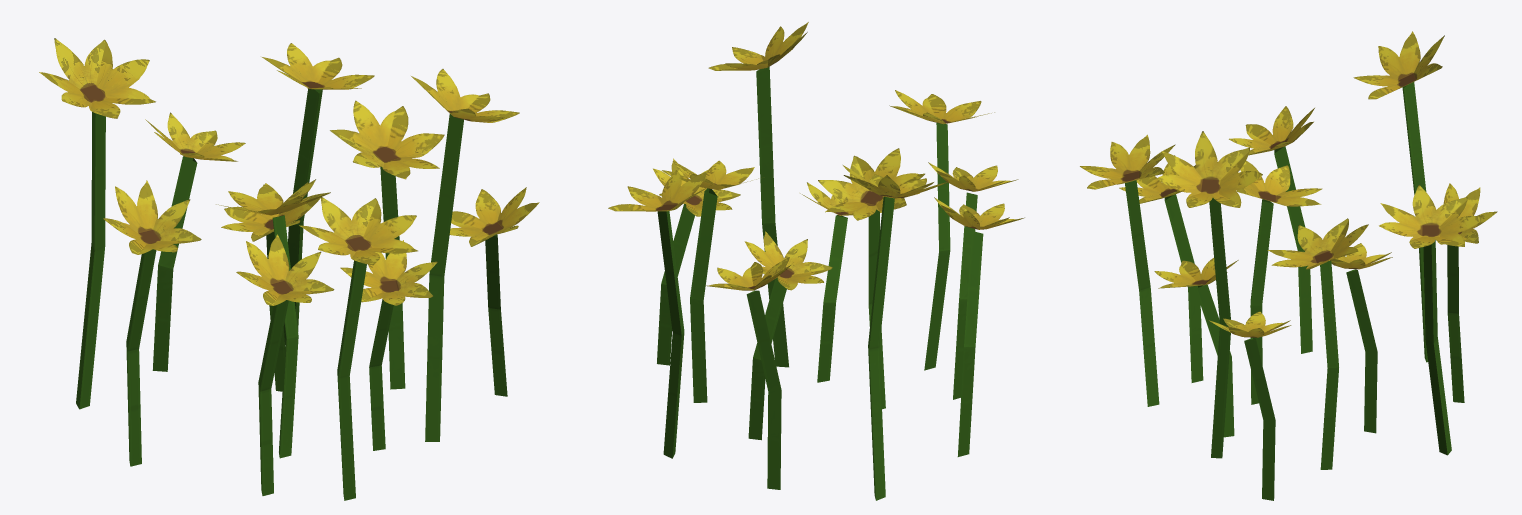
The model's file is FlowerYellow.fbx.
3 renders of one model, left to right at view 1: azimuth 30°, elevation 25°; view 2: azimuth 150°, elevation 25°; view 3: azimuth 270°, elevation 25°, orthographic. The views are drawn at different scales.
Parts seen in each view (by area): view 1: Flower_Yellow; view 2: Flower_Yellow; view 3: Flower_Yellow.
Boxes of the visible parts, x1,y1,x2,y2 form: Flower_Yellow: [39, 38, 539, 500]; Flower_Yellow: [608, 22, 1024, 500]; Flower_Yellow: [1080, 31, 1497, 500].
Bounding box in the file's own units: 0.5384 × 0.4547 × 0.5592.
